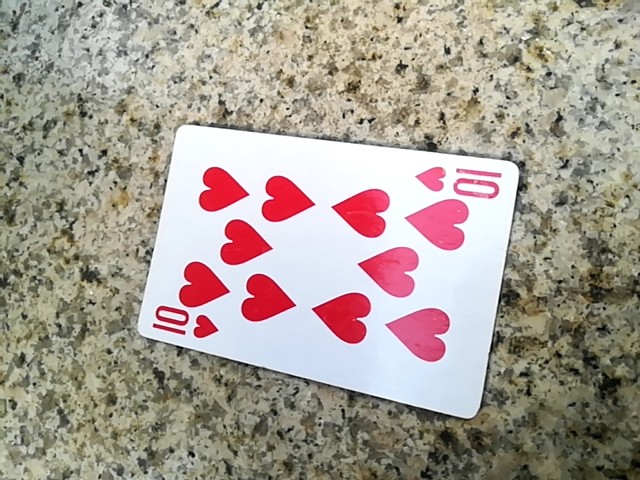hx 10: (133, 125, 512, 422)
